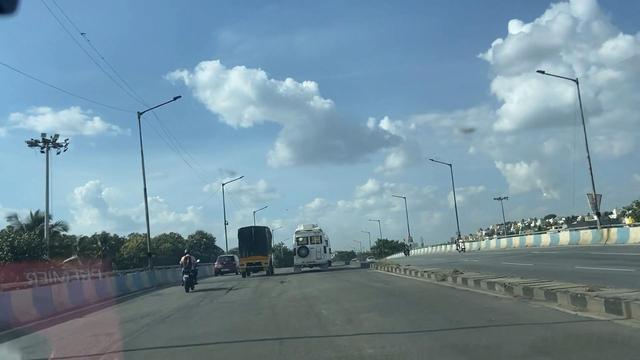HMV: (235, 221, 277, 282), (290, 220, 333, 274)
LMV: (177, 245, 199, 290), (217, 250, 233, 274)
RoadDamages: (85, 304, 239, 360)
